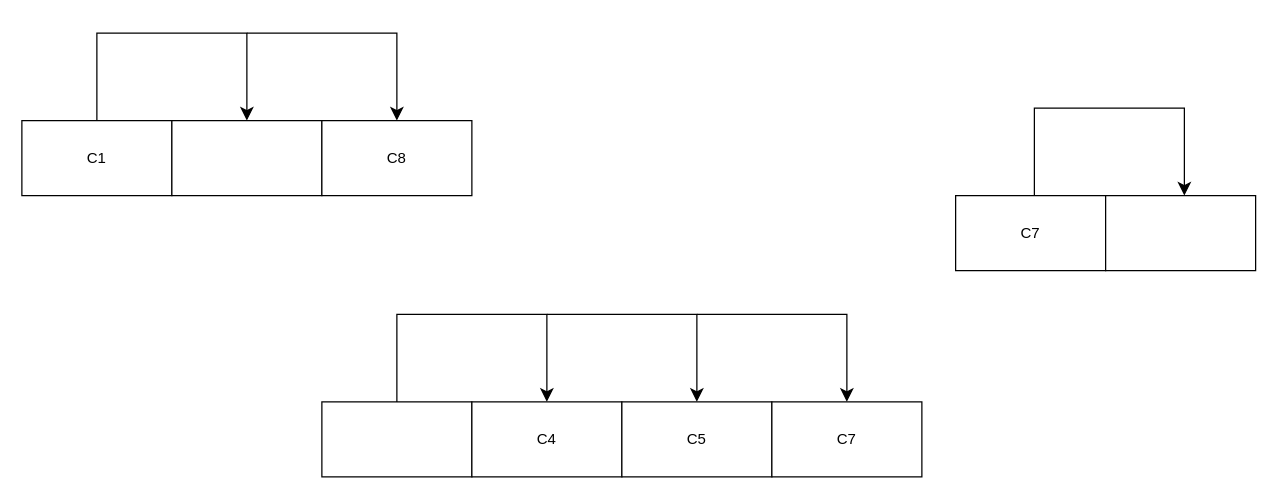
This 1278x499 diagram has some shape labels left out. Each missing label, with the centre of its shape:
C2: point (396, 439)
C3: point (246, 157)
C6: point (1180, 232)
